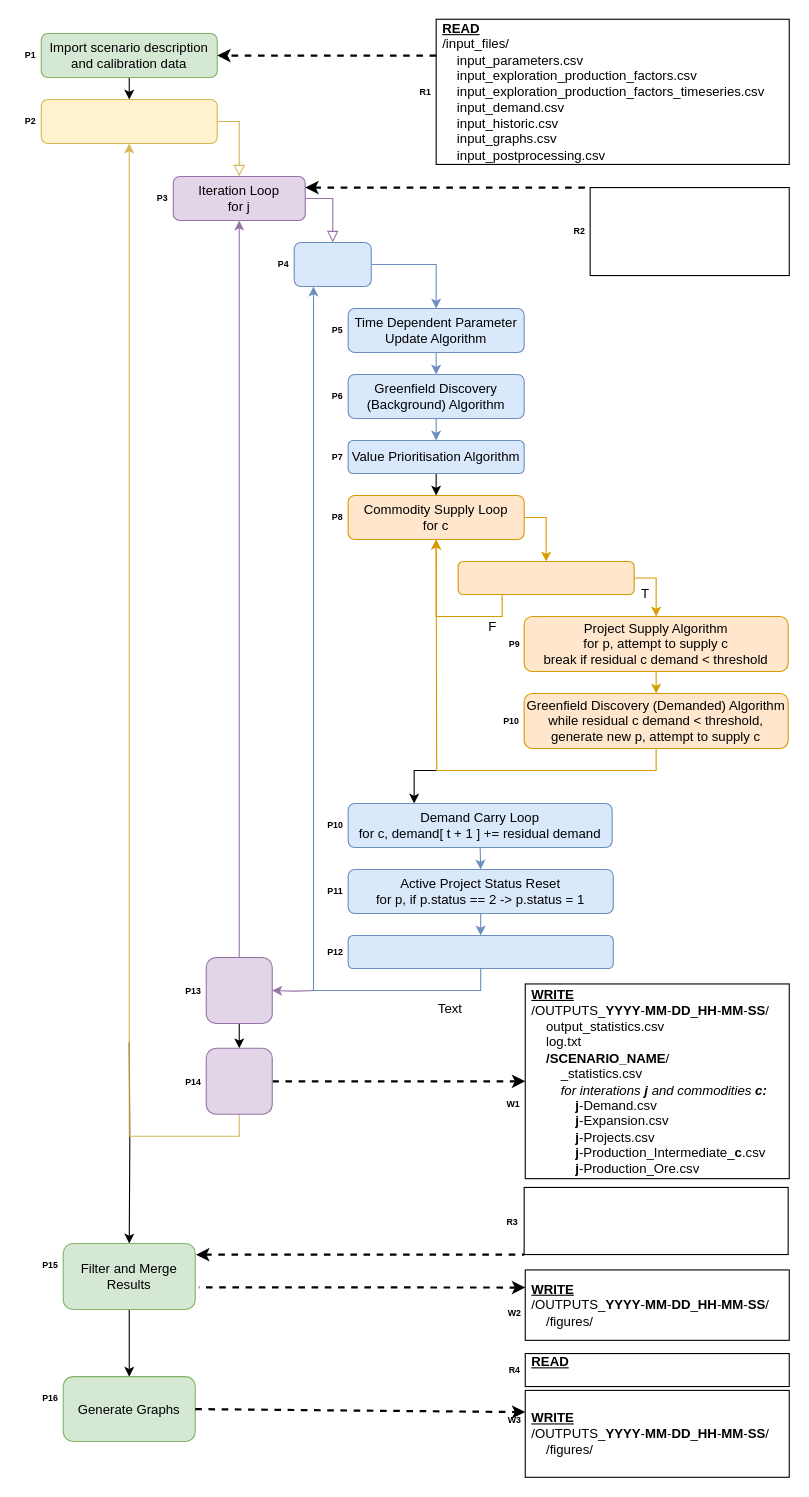
This 809x1497 diagram has some shape labels left out. Here are the shapes that lost their labels. From the top down, the centre of each, then its label:
At [128,121]: "Scenario Loop for i".
At [689,231]: "READ /input_files/ input_projects.csv input_project_coproducts.csv".
At [332,264]: "Time Loop for t".
At [545,577]: "if c is demand balanced".
At [480,951]: "Brownfield Exploration Algorithm".
At [238,990]: "Add Historic Series".
At [238,1080]: "Export Iteration Results".
At [655,1220]: "READ /OUTPUTS_ YYYY - MM - DD _ HH - MM - SS / for scenarios i: for".
